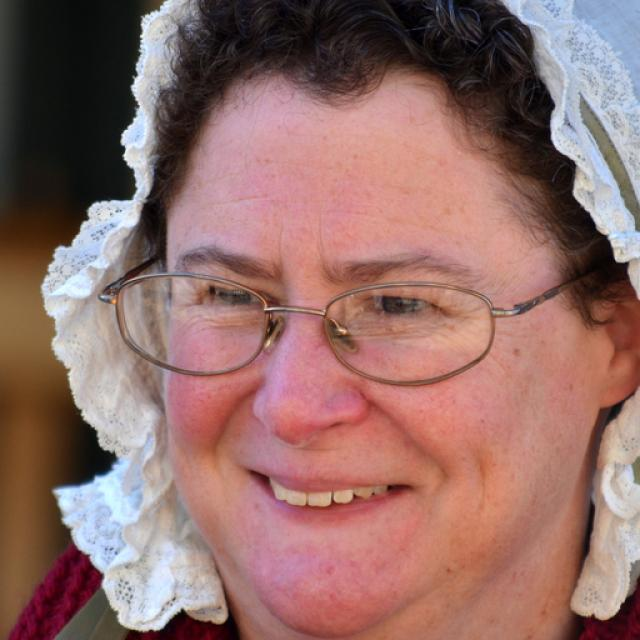Pigmentation: (252, 533, 418, 629), (165, 332, 249, 447), (277, 333, 368, 423)
